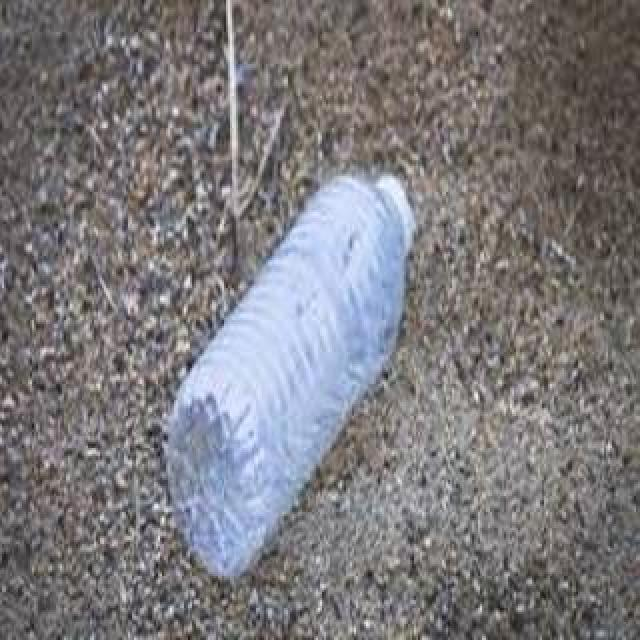Pet_Bottle: (165, 166, 419, 594)
